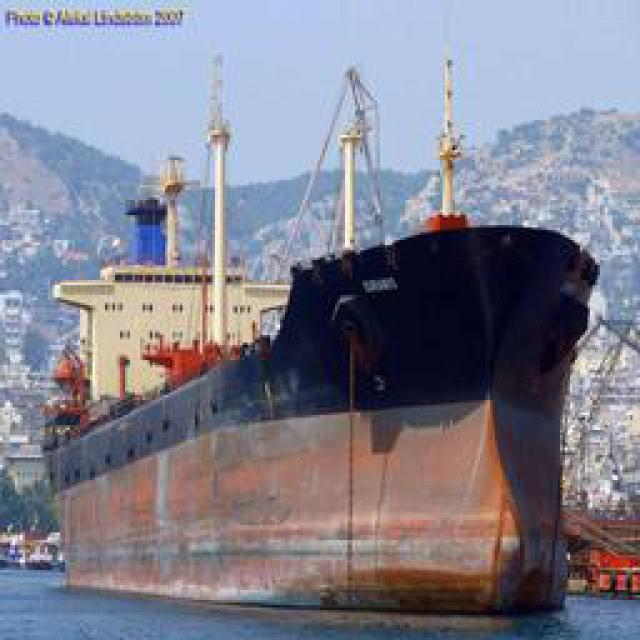Ship: (47, 20, 607, 633)
